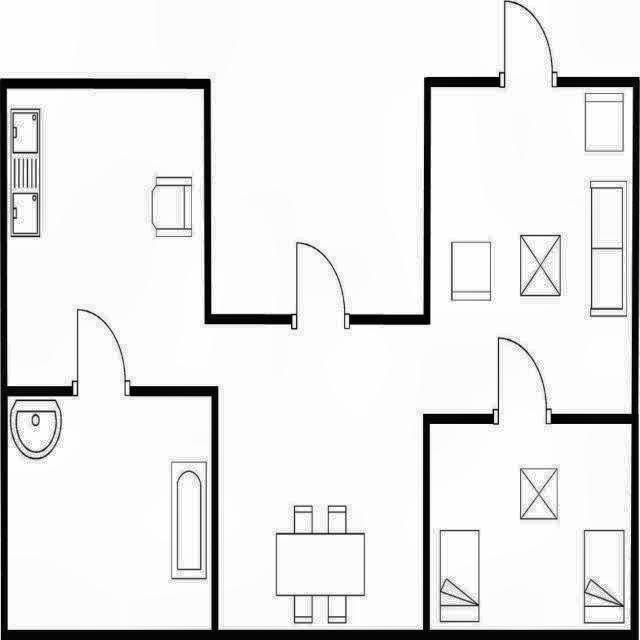room: (7, 86, 634, 630), (8, 396, 211, 630), (430, 424, 630, 630)
